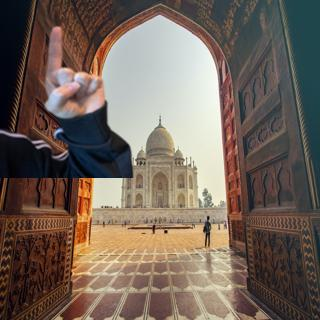IRRITATED: (42, 24, 107, 122)
